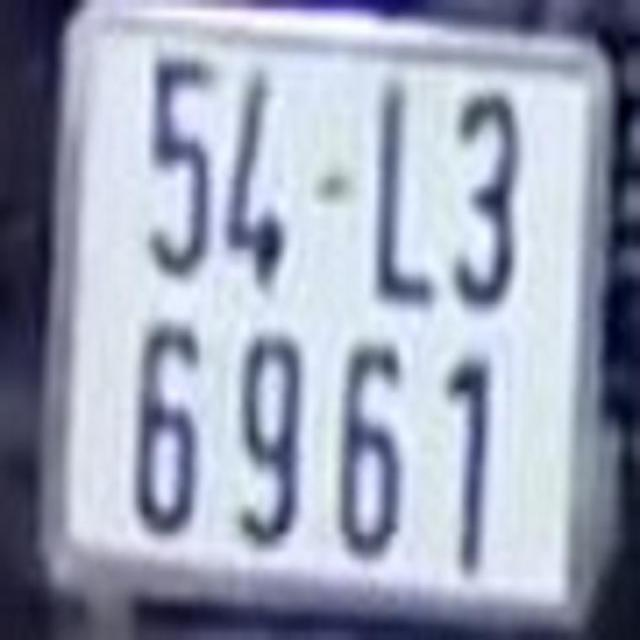1: (444, 351, 488, 571)
3: (457, 90, 522, 319)
4: (226, 67, 283, 287)
5: (147, 50, 213, 282)
6: (134, 319, 198, 531), (344, 332, 402, 564)
9: (239, 331, 301, 543)
L: (380, 79, 439, 307)
